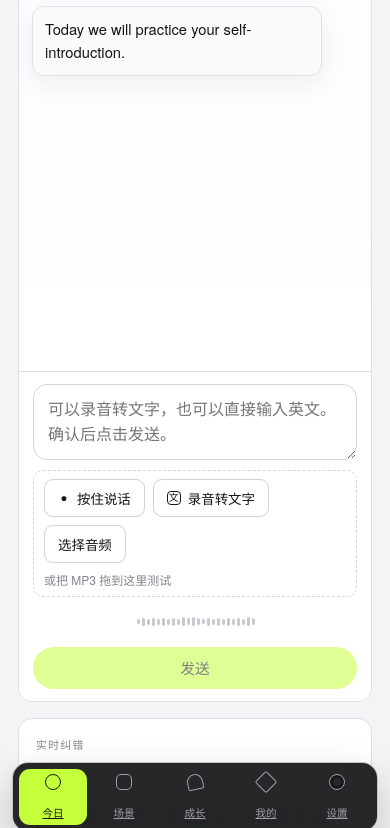
sends typed text and shows the assistant reply as text and plays audio
The image size is (390, 828).
(page scrolled)
In the text box named "输入你的回答": coordinates (195, 422) [33,384,357,460], type "I want to check in, please."
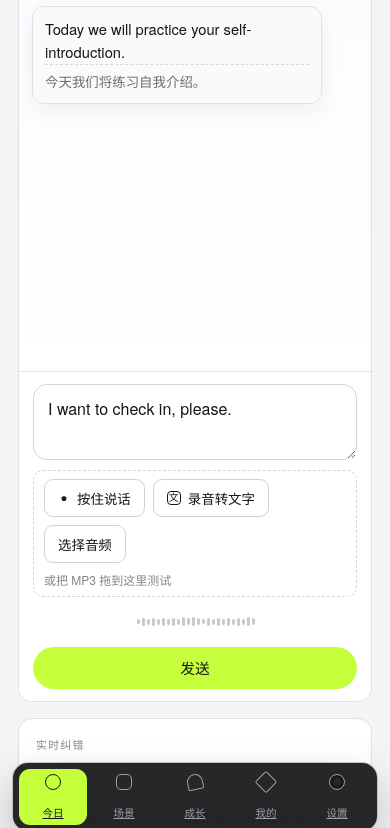
Click the button "发送": coordinates (195, 668) [33,647,357,689]
(page scrolled)
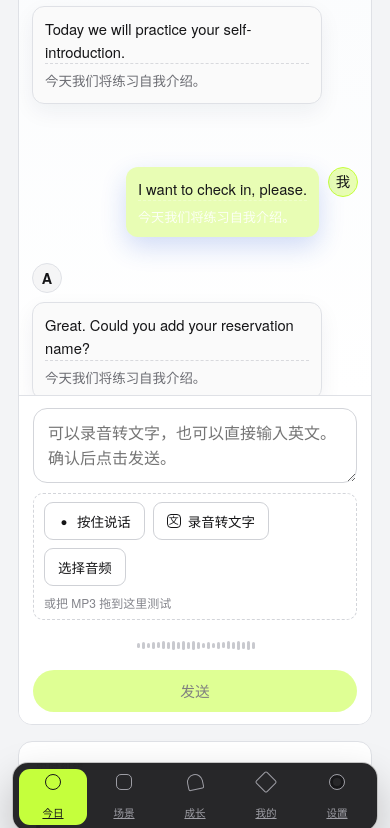
Result: the text "Great. Could you add your reservation name?" is shown at [45,314,309,360]
Result: the text "我" is shown at [328,167,358,197]
